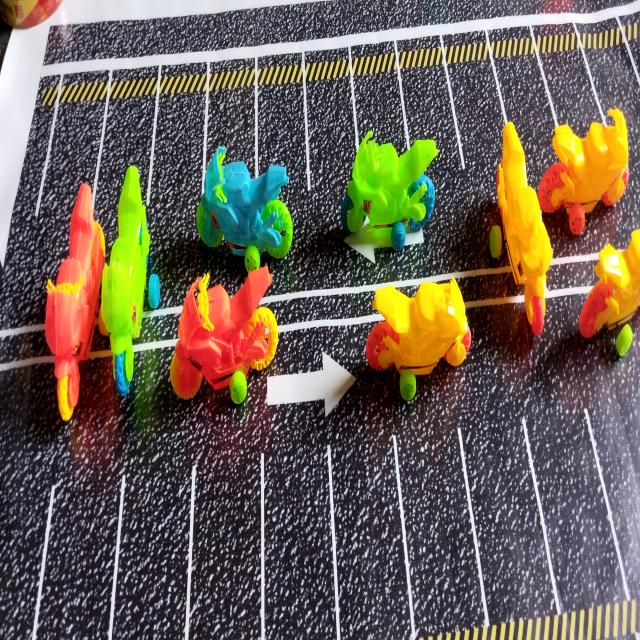bikes: (171, 266, 278, 404), (45, 183, 105, 419), (101, 166, 160, 396), (490, 122, 552, 335), (365, 279, 471, 401), (196, 147, 293, 273), (341, 131, 438, 251), (538, 108, 629, 233), (580, 229, 640, 356)
slots: (528, 408, 624, 608), (464, 415, 554, 623), (397, 429, 484, 633), (264, 420, 336, 640), (332, 438, 411, 638), (189, 453, 260, 640), (37, 480, 119, 638), (114, 465, 189, 637), (40, 100, 105, 253), (95, 95, 155, 243), (149, 95, 204, 252), (307, 79, 356, 227), (449, 60, 504, 185), (258, 72, 307, 205), (401, 58, 459, 166), (495, 54, 554, 152), (587, 42, 640, 144), (541, 50, 603, 135), (206, 84, 255, 176), (355, 65, 406, 153)
